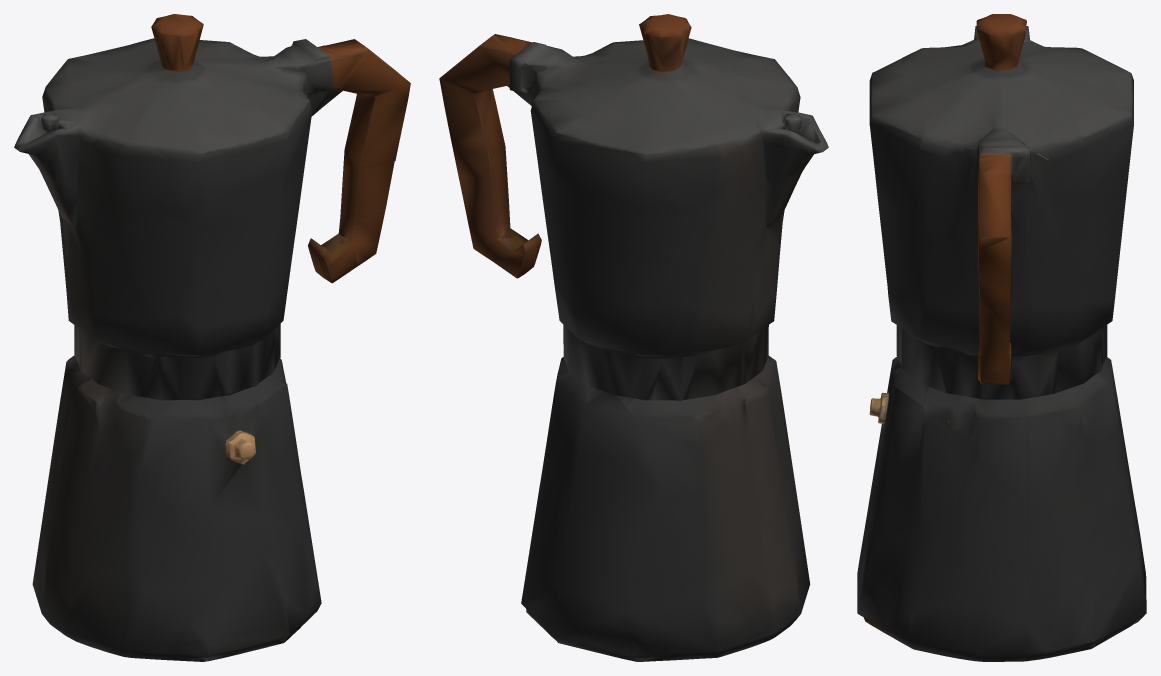
Rendered from moka_pot.glb.
3 renders of one model, left to right at view 1: azimuth 30°, elevation 25°; view 2: azimuth 150°, elevation 25°; view 3: azimuth 270°, elevation 25°, orthographic.
Parts seen in each view (by area): view 1: Mesh1.001; view 2: Mesh1.001; view 3: Mesh1.001.
Part boxes in pixels (x1,y1,x2,y2): Mesh1.001: (14, 14, 410, 661); Mesh1.001: (439, 14, 828, 661); Mesh1.001: (857, 14, 1146, 661).
Bounding box in the file's own units: 1.32 × 1.91 × 0.8604.
Materials: 1 (1 with a texture image).
